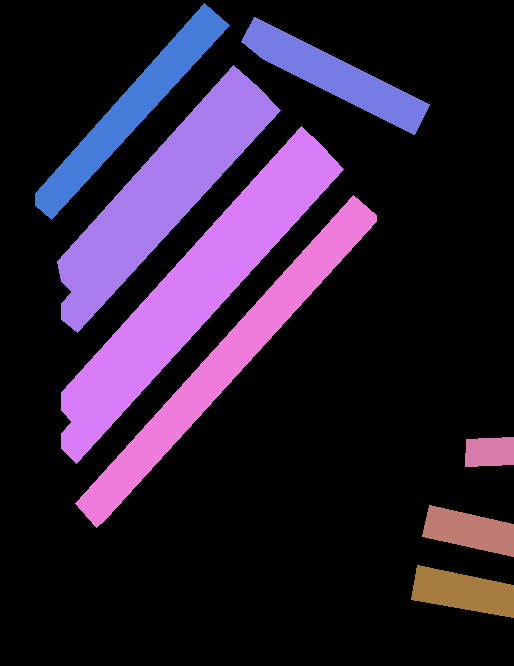parkingspot: (75, 195, 376, 527), (61, 145, 343, 463), (61, 126, 323, 423), (61, 86, 280, 332), (57, 65, 259, 293), (35, 3, 229, 219), (241, 17, 429, 134), (411, 565, 514, 617), (422, 505, 514, 556), (465, 437, 514, 466)
